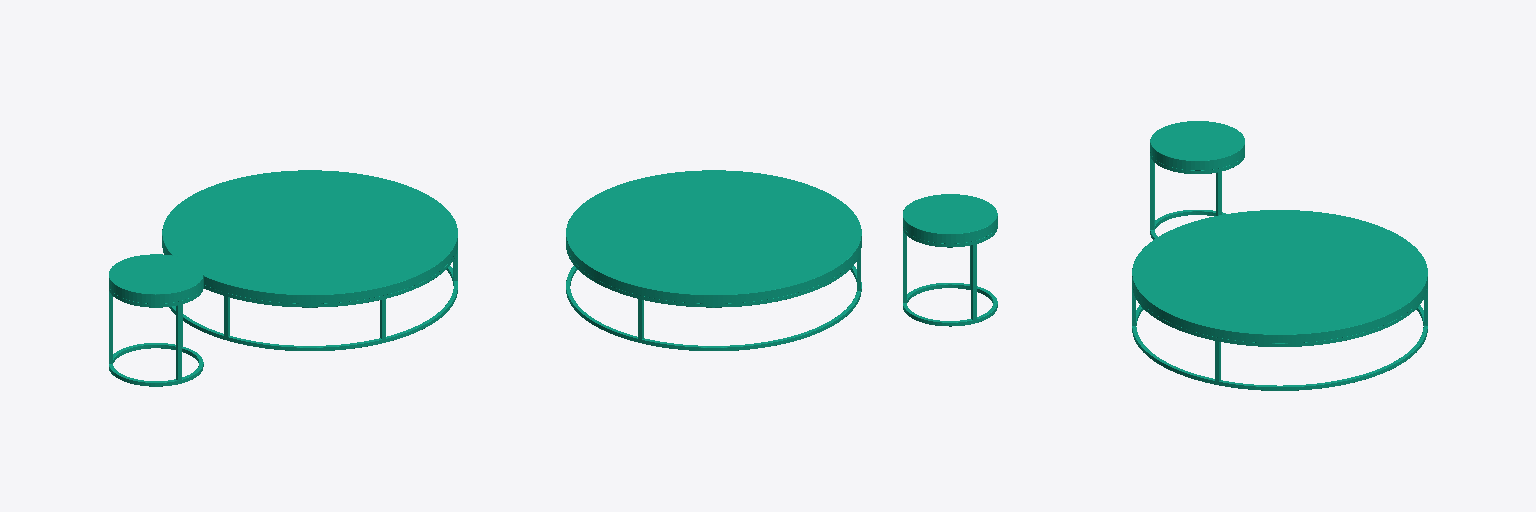
File: Likon_RH_Nicholas_Round_Side_Tables_.obj
3 renders of one model, left to right at view 1: azimuth 30°, elevation 25°; view 2: azimuth 150°, elevation 25°; view 3: azimuth 270°, elevation 25°, orthographic.
Visible parts, largest first — view 1: Likon_RH_Nicholas_Round_Side_Tables_004, Likon_RH_Nicholas_Round_Side_Tables_003; view 2: Likon_RH_Nicholas_Round_Side_Tables_004, Likon_RH_Nicholas_Round_Side_Tables_003; view 3: Likon_RH_Nicholas_Round_Side_Tables_004, Likon_RH_Nicholas_Round_Side_Tables_003.
Part boxes in pixels (x1,y1,x2,y2): Likon_RH_Nicholas_Round_Side_Tables_004: (162,170,457,350); Likon_RH_Nicholas_Round_Side_Tables_003: (109,254,203,386); Likon_RH_Nicholas_Round_Side_Tables_004: (566,170,861,350); Likon_RH_Nicholas_Round_Side_Tables_003: (903,194,997,326); Likon_RH_Nicholas_Round_Side_Tables_004: (1132,210,1427,390); Likon_RH_Nicholas_Round_Side_Tables_003: (1150,121,1244,239).
Bounding box in the file's own units: 199 × 48.26 × 140.